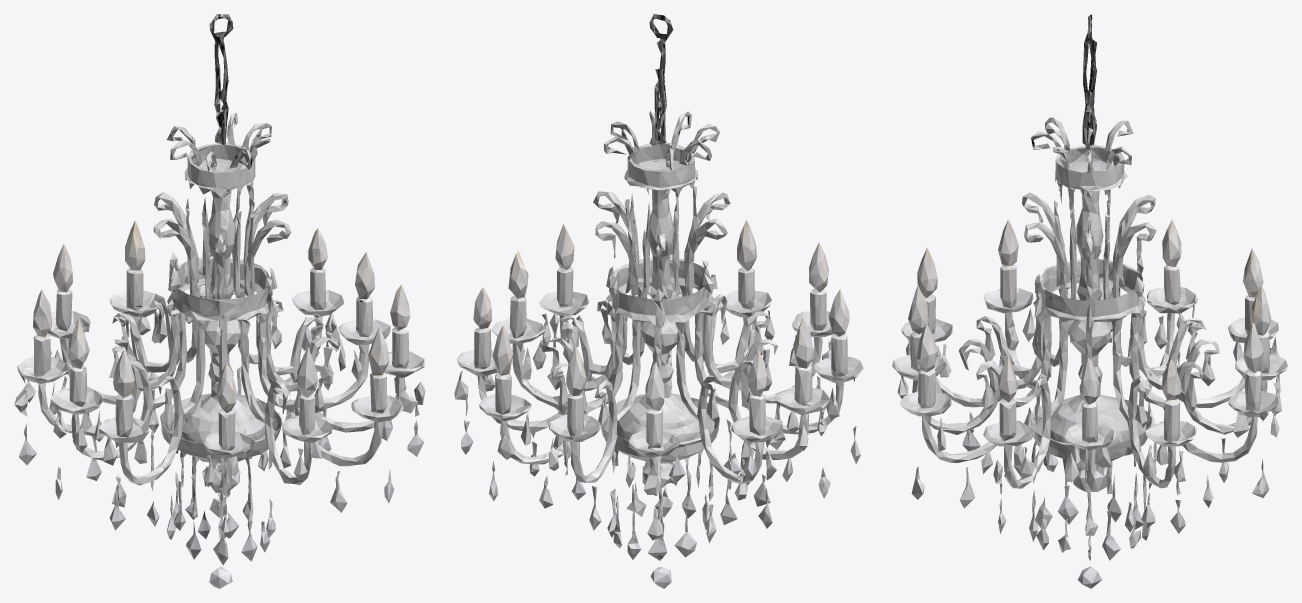
Rendered from Cruise_chandelier_0523040348_texture.fbx.
3 renders of one model, left to right at view 1: azimuth 30°, elevation 25°; view 2: azimuth 150°, elevation 25°; view 3: azimuth 270°, elevation 25°, orthographic.
Visible parts, largest first — view 1: temp; view 2: temp; view 3: temp.
Part boxes in pixels (<box>): temp: <box>14,14,425,588</box>; temp: <box>454,14,863,588</box>; temp: <box>892,14,1287,588</box>.
Bounding box in the file's own units: 122 × 200 × 126.
Materials: 1 (1 with a texture image).
